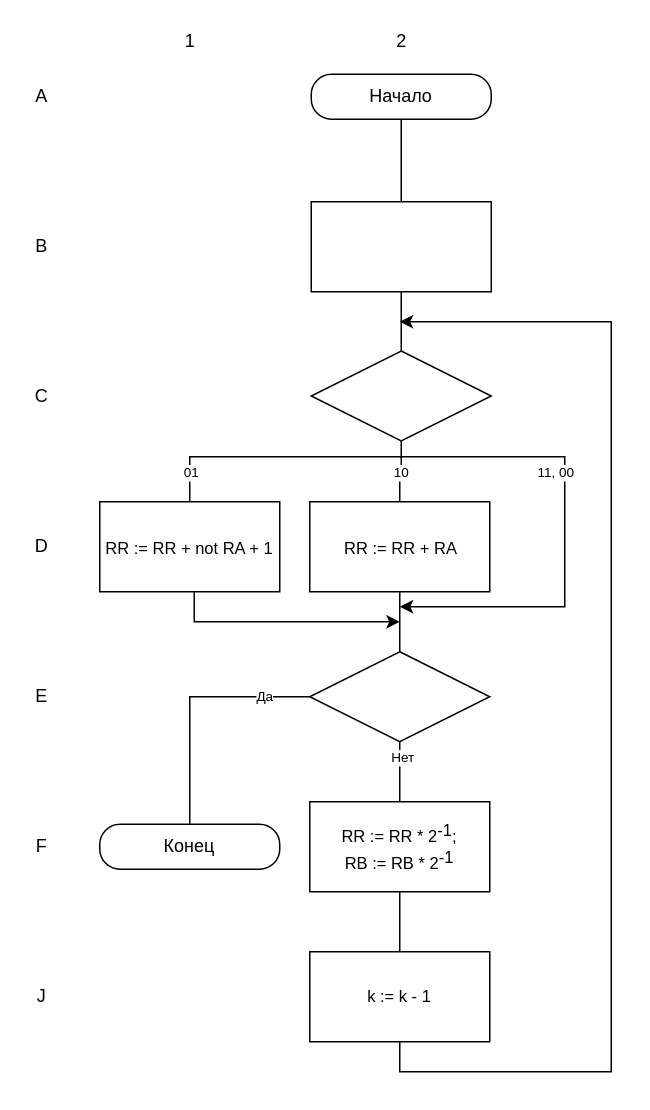
Some shapes in this 650 by 1110 pixel diagram are drawn without their labels. The shapes that lost their labels are listed below. From the top down, each one's box as (x1, y1, x2, y2) in pixels, then its label:
(310, 200, 491, 292): RA := A; RB := B; RR := 0; k := 3
(310, 350, 491, 441): b 4 b 3
(308, 650, 490, 742): k = 0?
